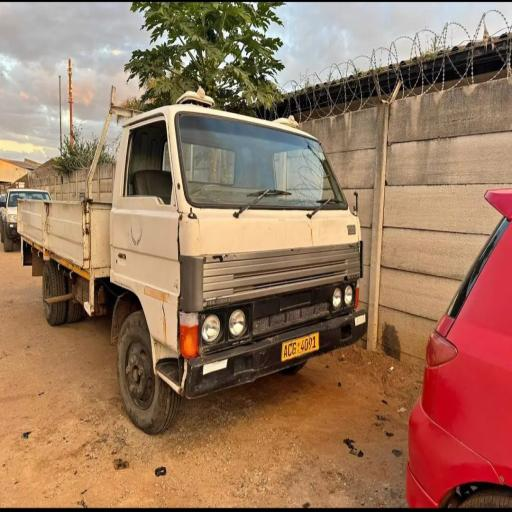number-plates: (281, 331, 320, 359)
